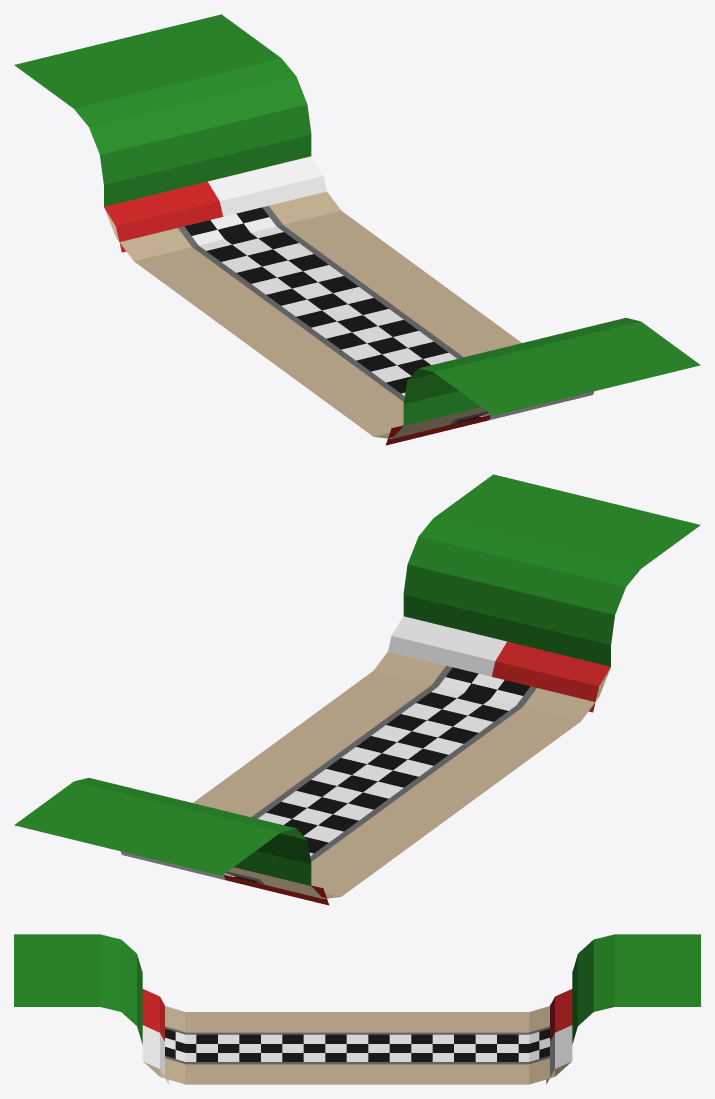
The model's file is Track_Striped_Finish_Line_Double_Checkered.obj.
3 views of the same model, one above another, from view 1: azimuth 30°, elevation 25°; view 2: azimuth 150°, elevation 25°; view 3: azimuth 270°, elevation 25° (orthographic). The views are drawn at different scales.
Visible parts, largest first — view 1: Grass, Dirt, Track_Finish_Line_Black, Track_Finish_Line_White, Raceline_Color_2, Raceline_Color_1, Track_Finish_Line_Border; view 2: Grass, Dirt, Track_Finish_Line_Black, Track_Finish_Line_White, Raceline_Color_2, Raceline_Color_1, Track_Finish_Line_Border; view 3: Grass, Dirt, Track_Finish_Line_White, Track_Finish_Line_Black, Track_Finish_Line_Border, Raceline_Color_1, Raceline_Color_2.
Part boxes in pixels (x1=…): Grass: x1=14, y1=14, x2=700, y2=425; Dirt: x1=104, y1=191, x2=521, y2=438; Track_Finish_Line_Black: x1=184, y1=207, x2=481, y2=422; Track_Finish_Line_White: x1=192, y1=214, x2=491, y2=416; Raceline_Color_2: x1=104, y1=181, x2=490, y2=445; Raceline_Color_1: x1=208, y1=156, x2=594, y2=420; Track_Finish_Line_Border: x1=178, y1=206, x2=488, y2=424; Grass: x1=14, y1=474, x2=700, y2=885; Dirt: x1=193, y1=651, x2=610, y2=898; Track_Finish_Line_Black: x1=233, y1=667, x2=530, y2=882; Track_Finish_Line_White: x1=223, y1=674, x2=522, y2=876; Raceline_Color_2: x1=224, y1=641, x2=610, y2=905; Raceline_Color_1: x1=120, y1=616, x2=506, y2=880; Track_Finish_Line_Border: x1=226, y1=666, x2=536, y2=884; Grass: x1=14, y1=934, x2=700, y2=1044; Dirt: x1=143, y1=1006, x2=571, y2=1084; Track_Finish_Line_White: x1=165, y1=1032, x2=549, y2=1061; Track_Finish_Line_Black: x1=165, y1=1028, x2=549, y2=1061; Track_Finish_Line_Border: x1=165, y1=1026, x2=549, y2=1064; Raceline_Color_1: x1=142, y1=1025, x2=572, y2=1084; Raceline_Color_2: x1=142, y1=989, x2=572, y2=1041.
Size of the model in its own units: 1 by 0.5 by 4.
